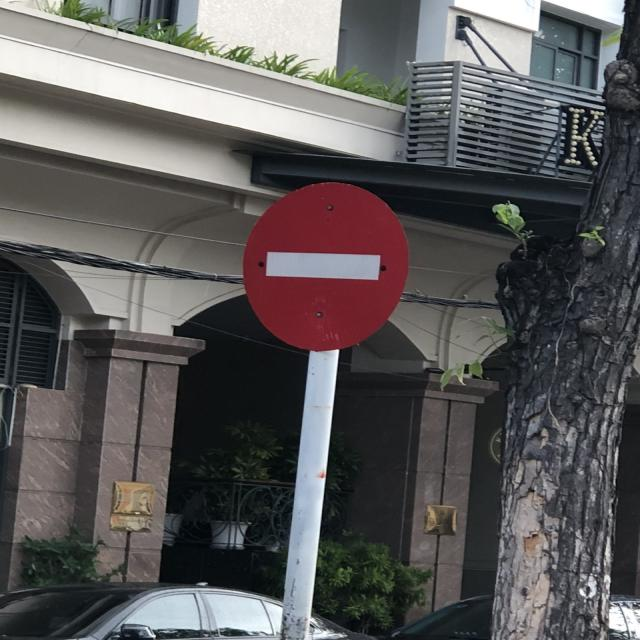Bien bao cam di nguoc chieu: (232, 172, 428, 358)
